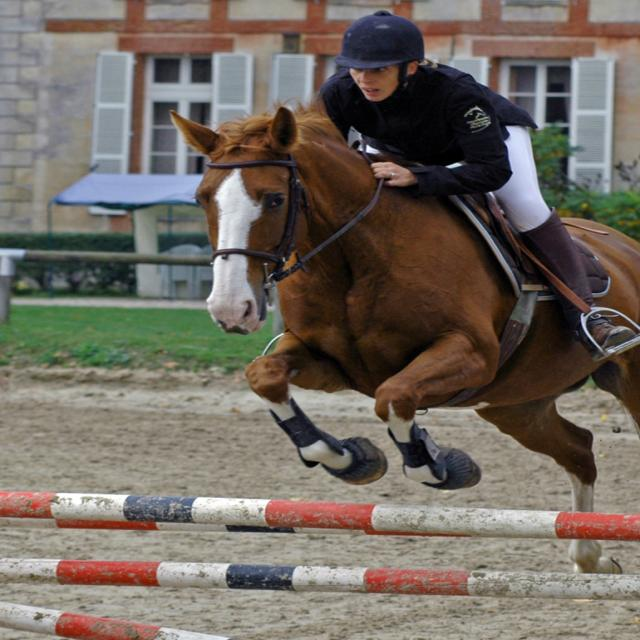Horse: (170, 92, 640, 574)
